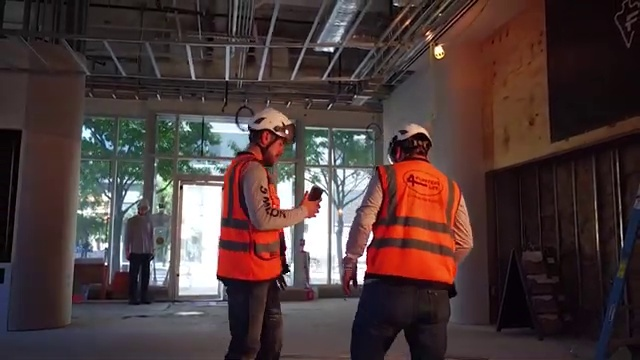helmet: (251, 108, 310, 140), (391, 123, 431, 152)
jacket: (372, 165, 460, 287), (223, 153, 295, 291)
